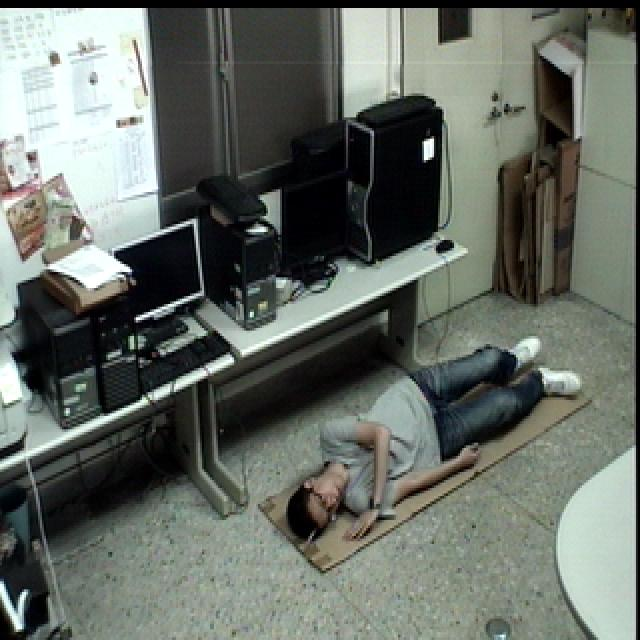lie: (280, 329, 586, 552)
